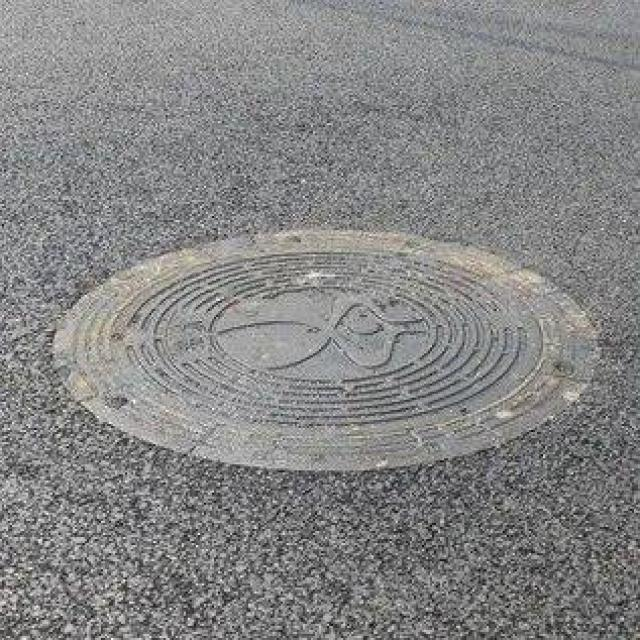manhole: (52, 228, 601, 476)
